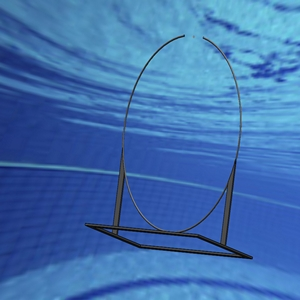circle: (85, 31, 252, 259)
